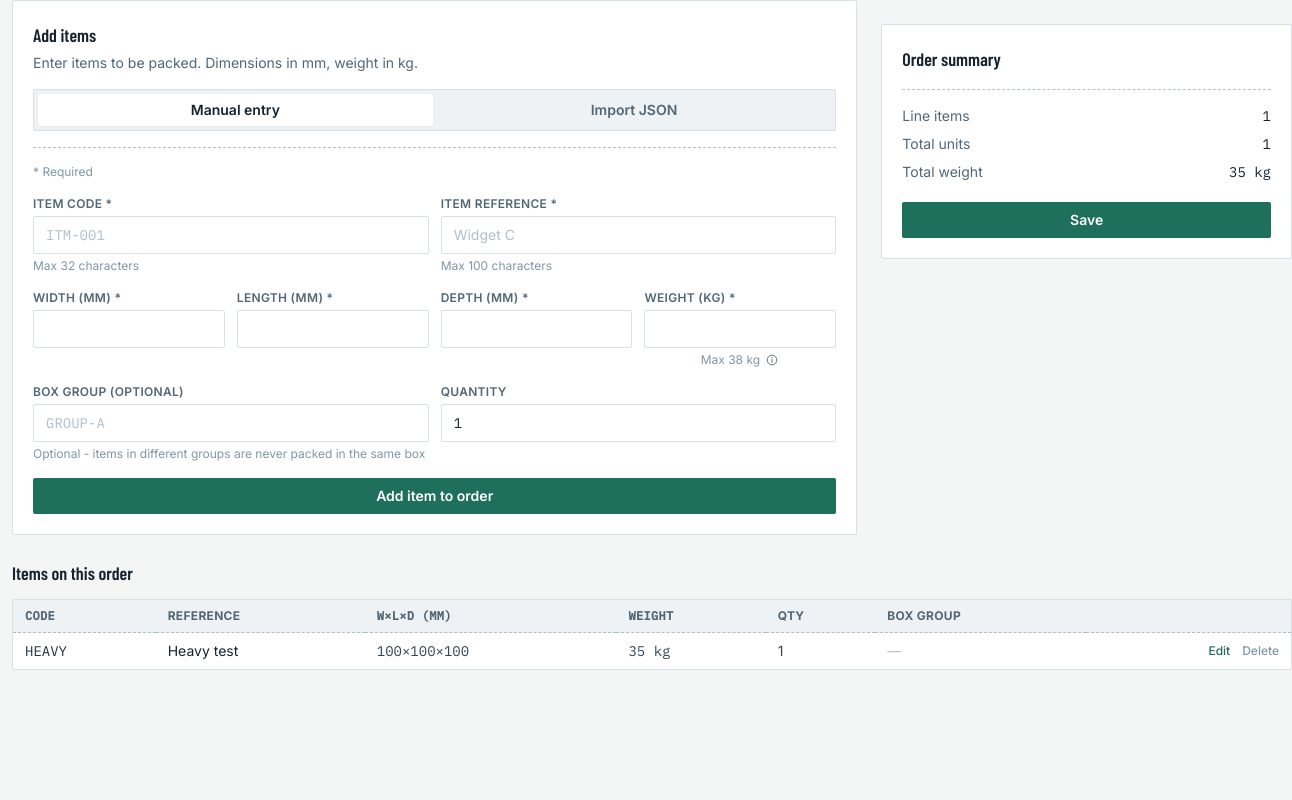
Test: current inventory limits while editing orders › refreshes the capacity before saving and stops a stale overweight order
Click the button "Save": point(1087, 220) x1=902 y1=202 x2=1271 y2=238
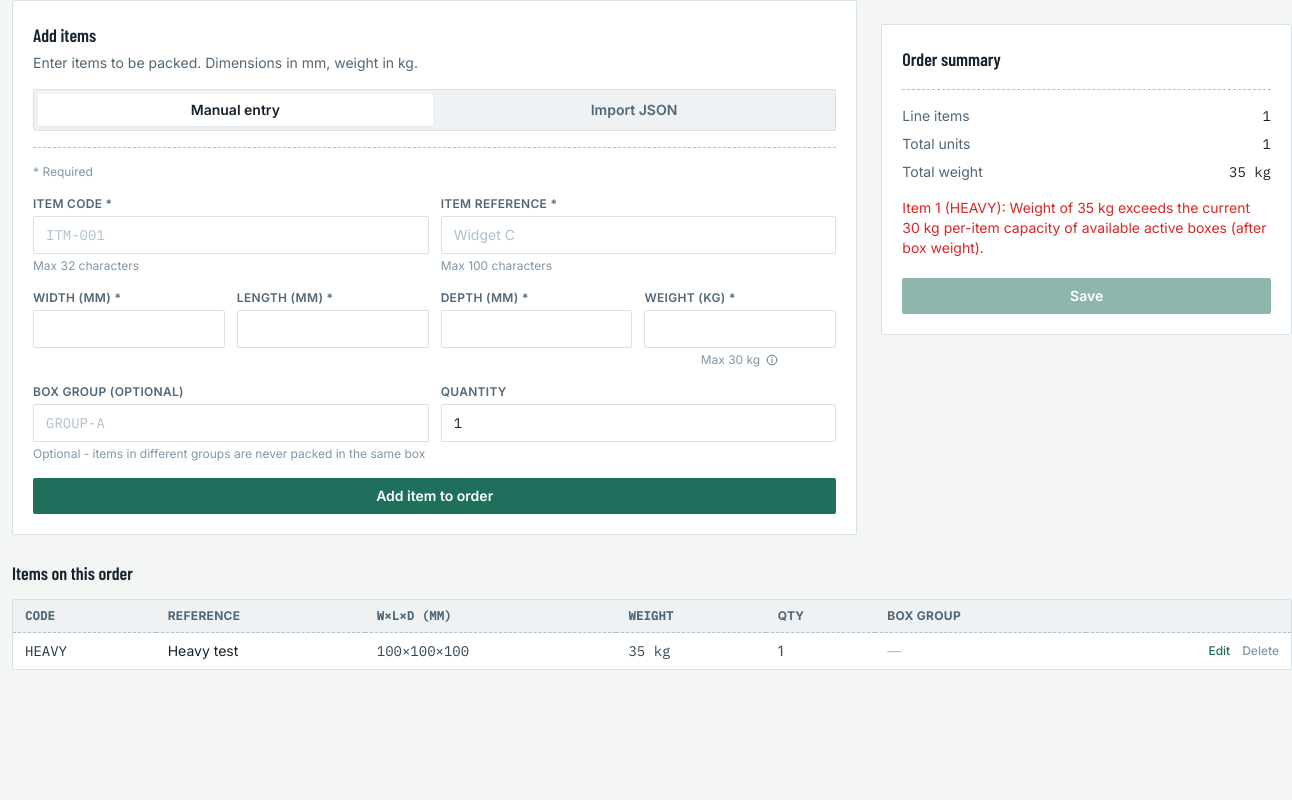
expect the text "30 kg per-item capacity" is shown: met, box x1=902 y1=199 x2=1266 y2=256
expect the button "Save" is disabled: met, box x1=902 y1=278 x2=1271 y2=314
